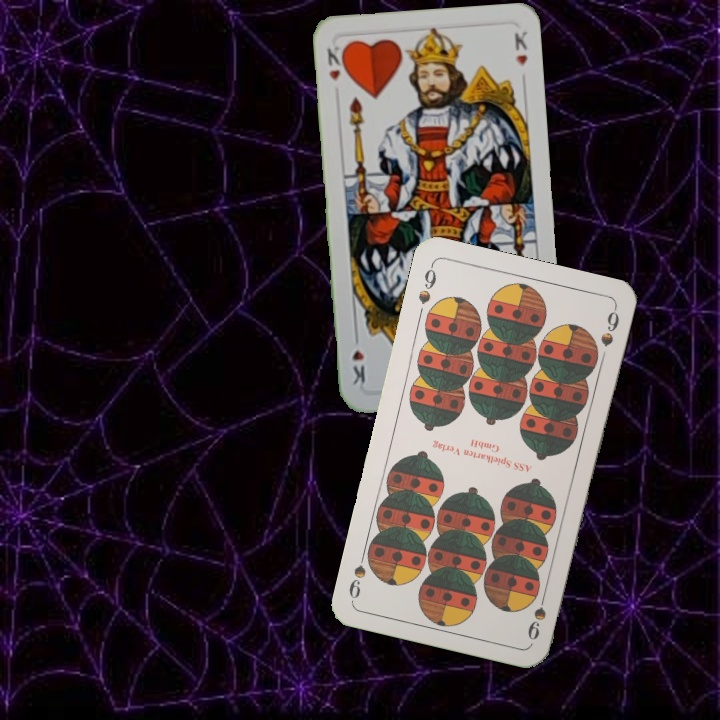HK: (323, 42, 349, 84)
S9: (523, 585, 550, 643), (414, 260, 439, 307)
